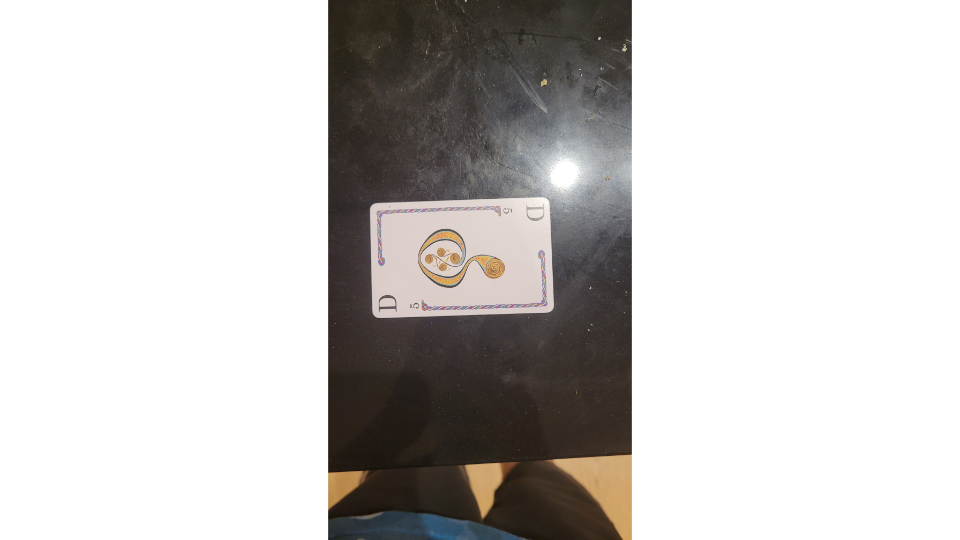D: (368, 196, 556, 316)
